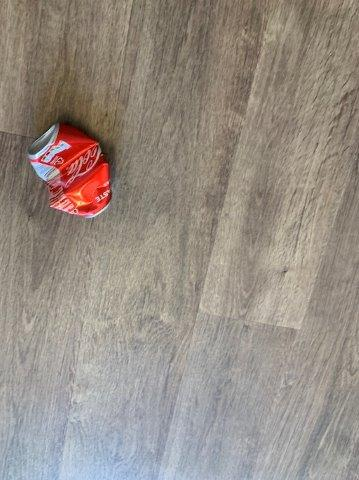kaleng: (29, 124, 112, 217)
